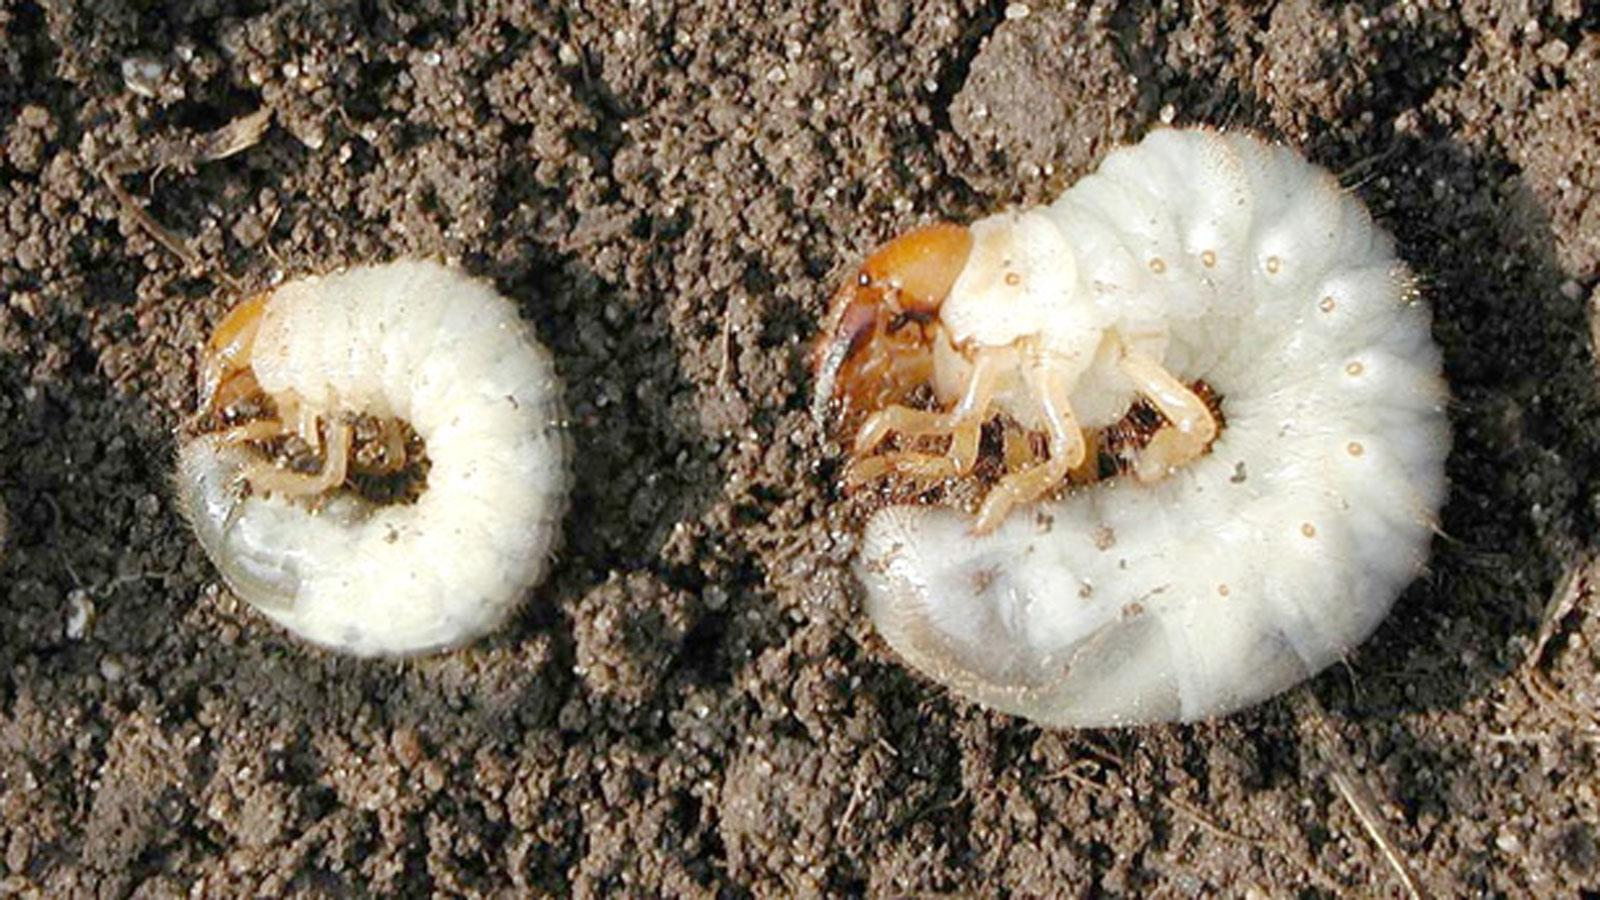grub: (162, 235, 595, 671)
